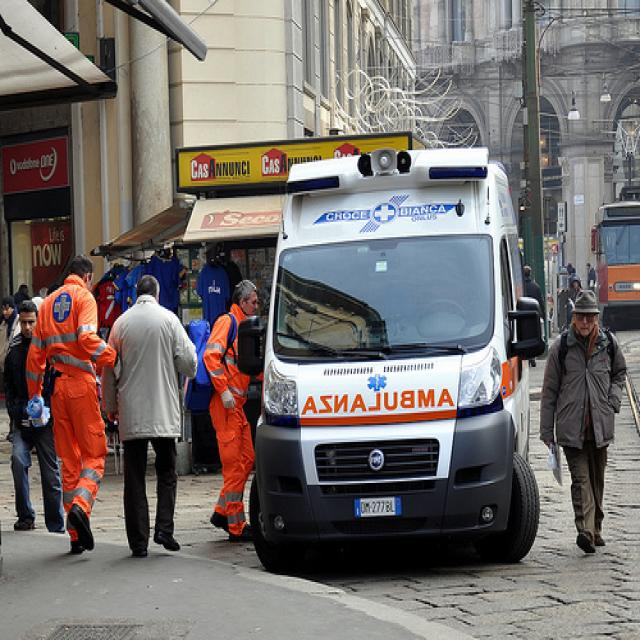emergency-vehicle: (255, 147, 544, 570)
